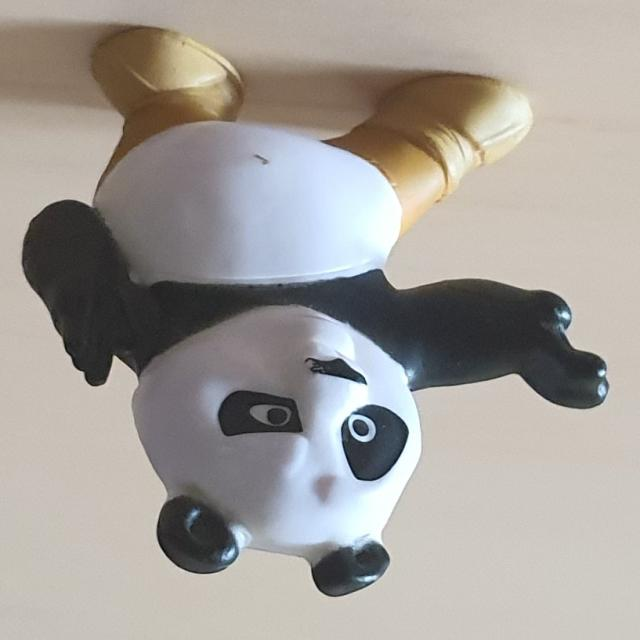Panda: (21, 27, 610, 599)
